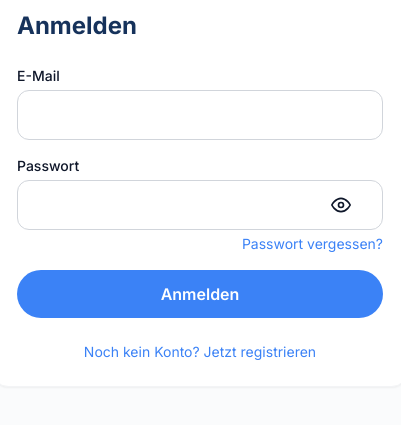
Test case: LoginForm › zeigt Validierungsfehler bei leerem Formular
The width and height of the screenshot is (401, 425).
Click the button "Anmelden" at (200, 294), box [17,270,383,318]
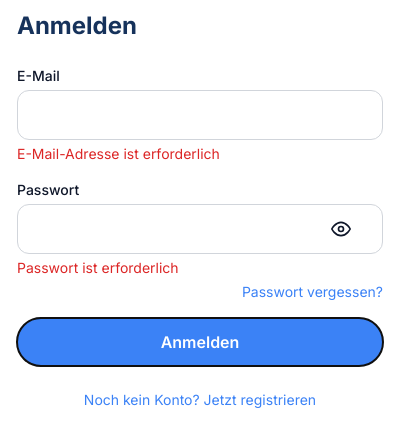
Result: the text "E-Mail-Adresse ist erforderlich" is shown at [17,145,220,162]
Result: the text "Passwort ist erforderlich" is shown at [17,259,179,276]
